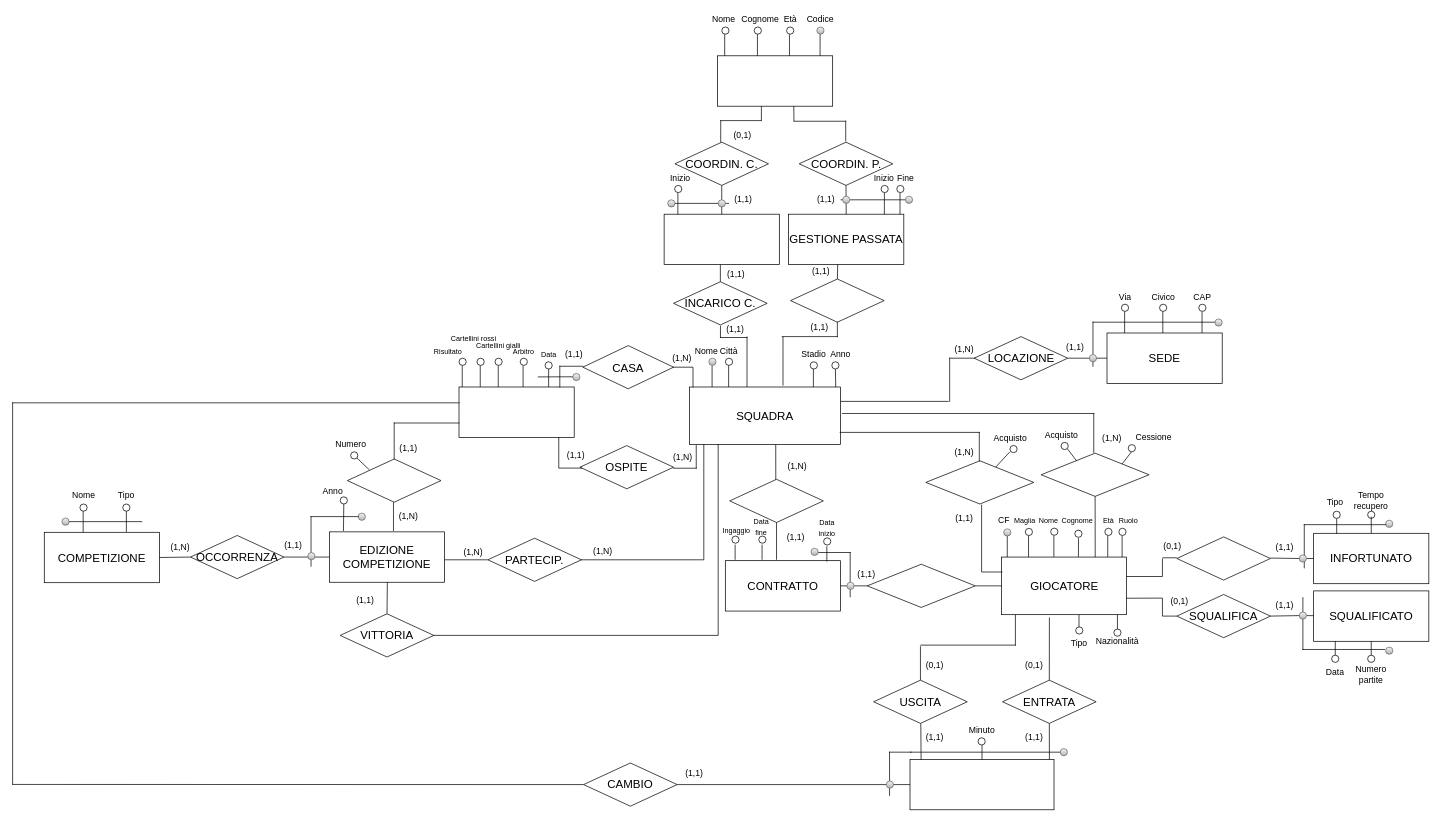
Image size: 1441x822. Some labels were removed from this diagram. The shapes that lost their labels are listed below. From the top down, each one's centre as x and y in pixels, then its label:
At (775,80): "ALLENATORE".
At (721,239): "GESTIONE CORRENTE".
At (837,300): "INCARICO P.".
At (516,411): "PARTITA".
At (394,480): "GIORNATA".
At (979,482): "COMP. ATTUALE".
At (1094,474): "COMP. PASSATA".
At (776,501): "SOTTOSCRIZ.".
At (1223,558): "INFORTUNIO".
At (921,585): "FIRMA".
At (981,784): "SOSTITUZIONE".
